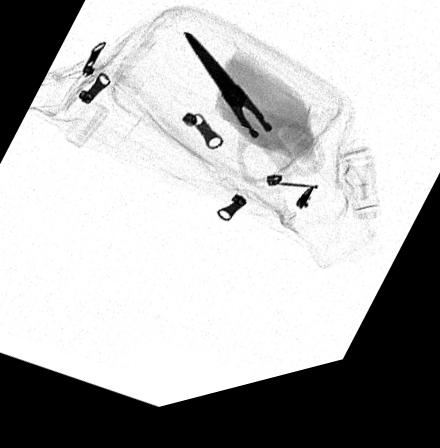Scissors: (180, 42, 329, 201)
